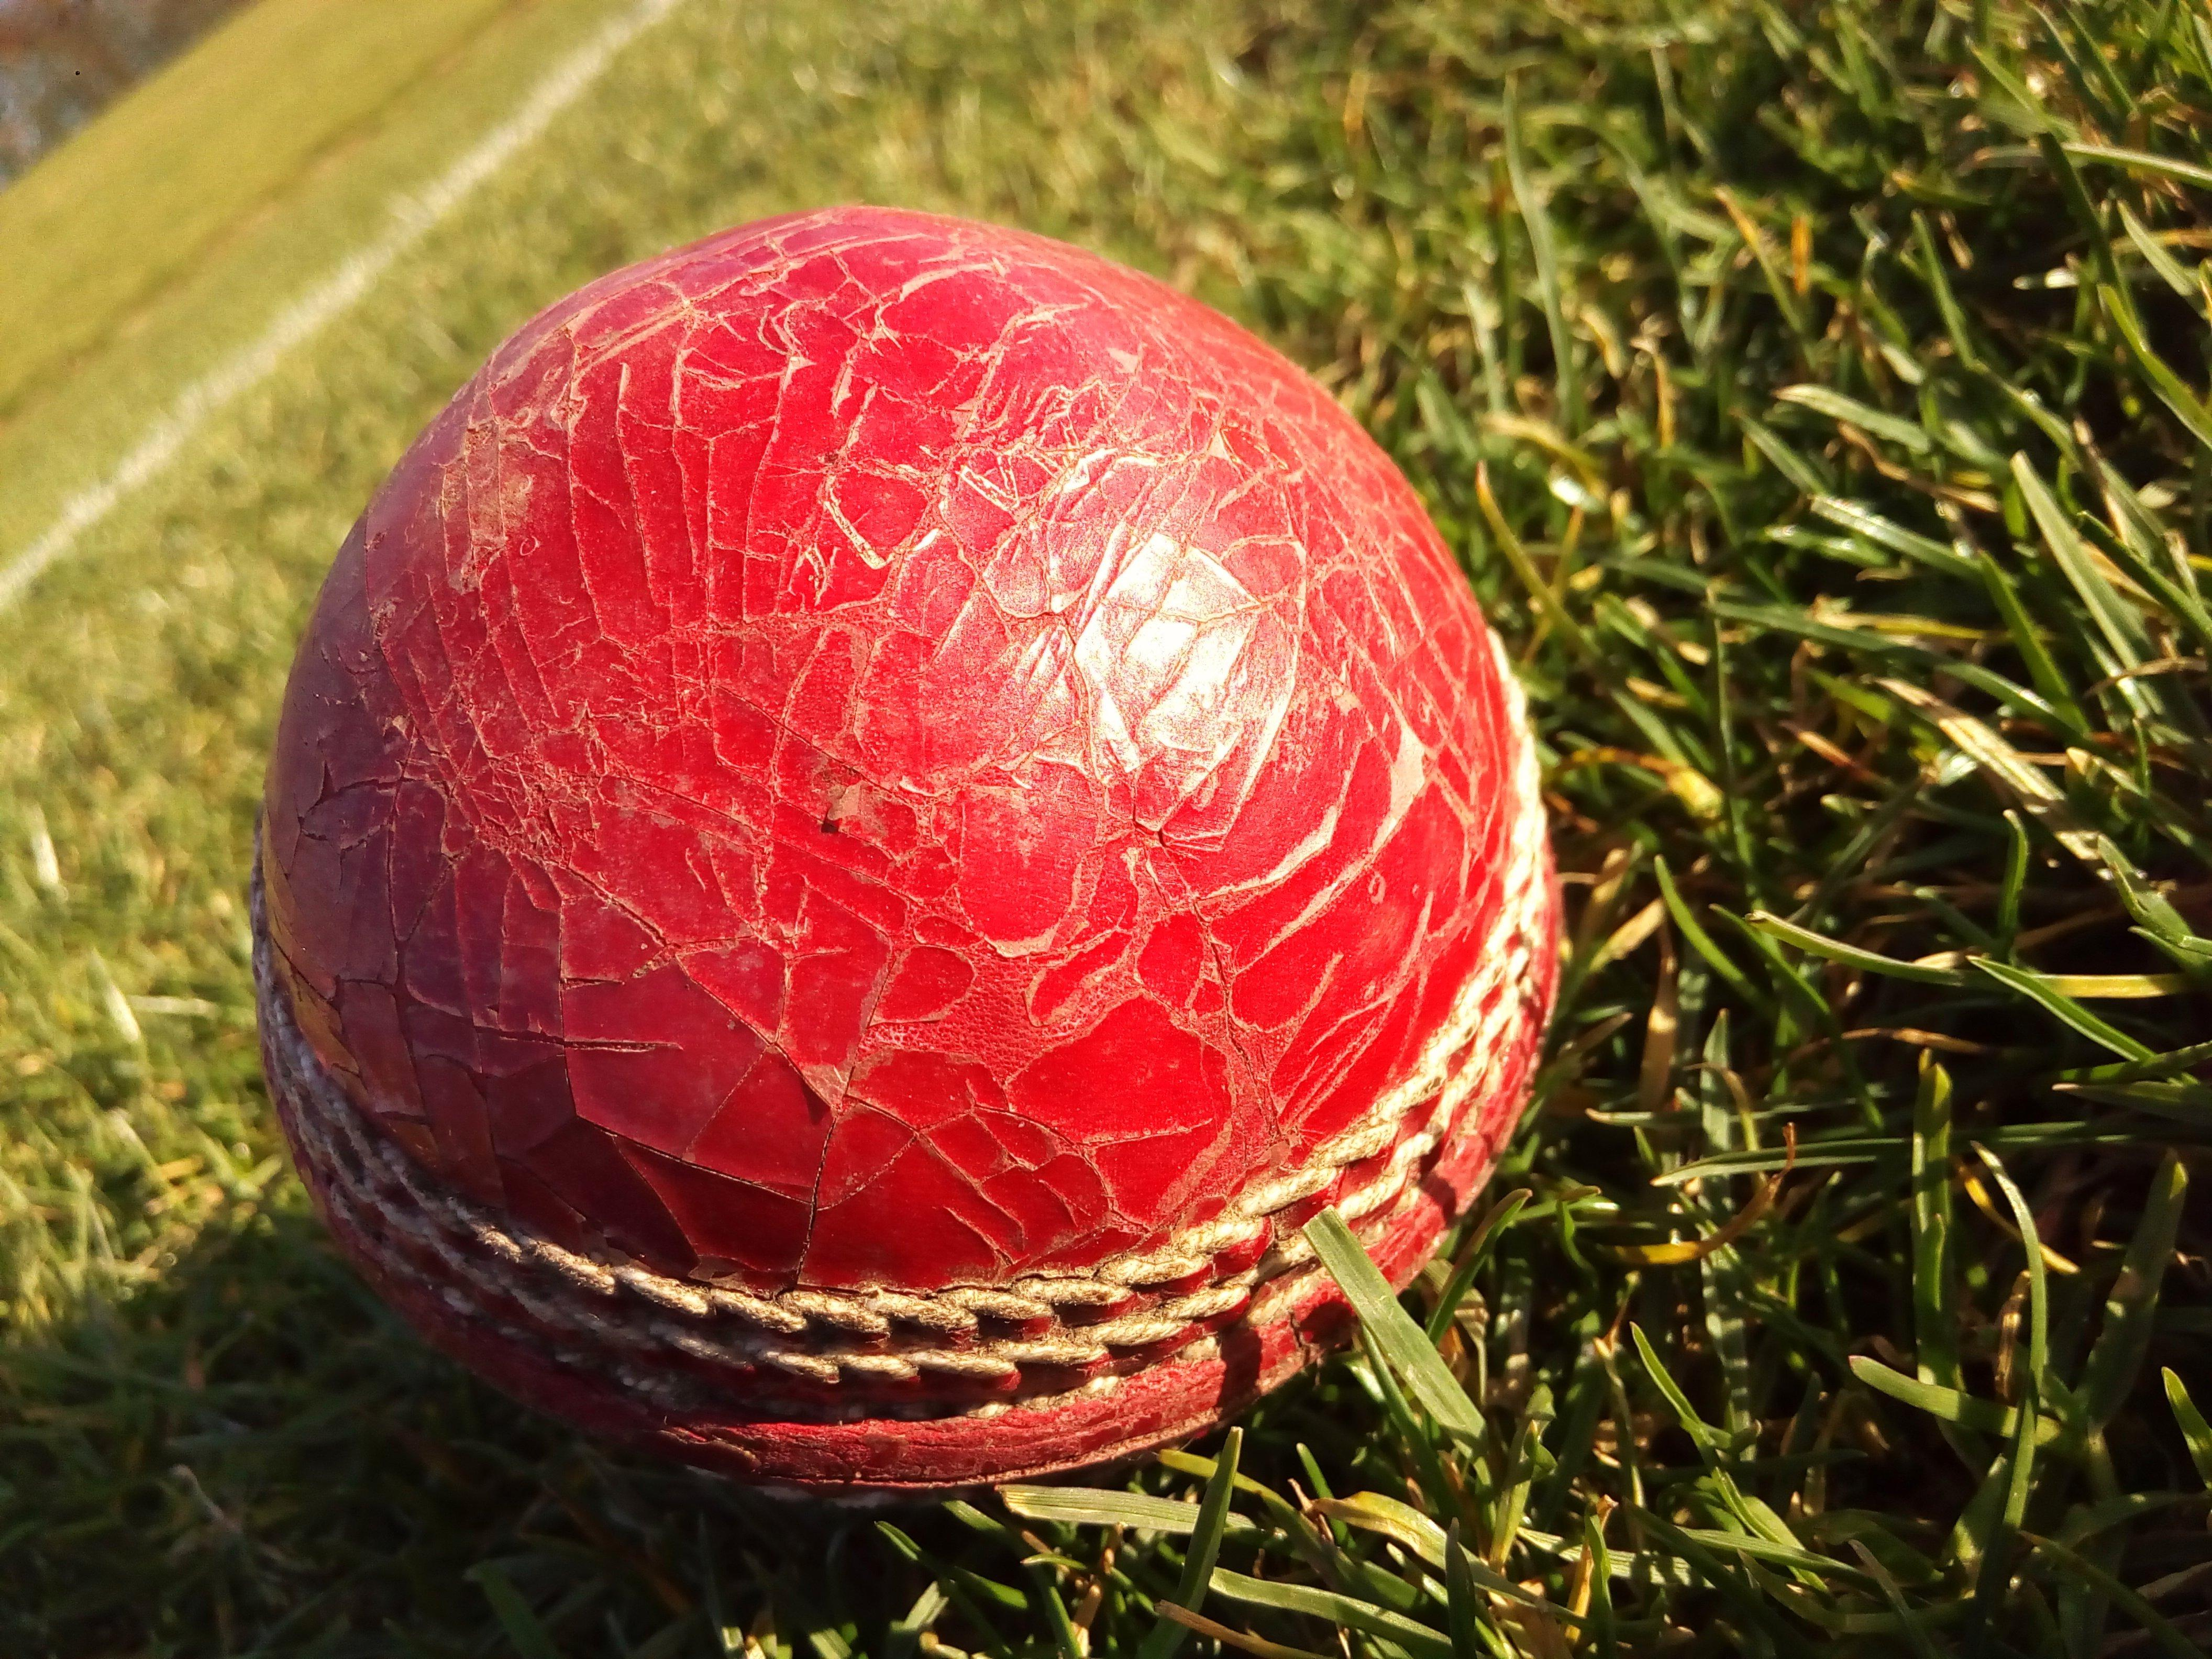Red_Ball: (157, 213, 1571, 1520)
